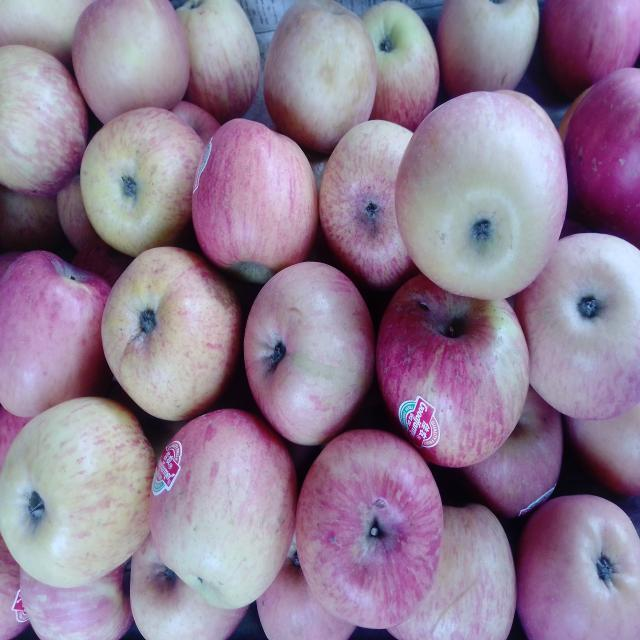Fresh Apple: (396, 102, 582, 295), (230, 263, 388, 455), (324, 435, 444, 640), (157, 418, 285, 605), (17, 408, 142, 598), (390, 282, 522, 438), (526, 240, 640, 415), (105, 257, 227, 415), (197, 122, 323, 273), (508, 503, 640, 640), (263, 5, 375, 137), (5, 258, 97, 412), (63, 3, 180, 120)
